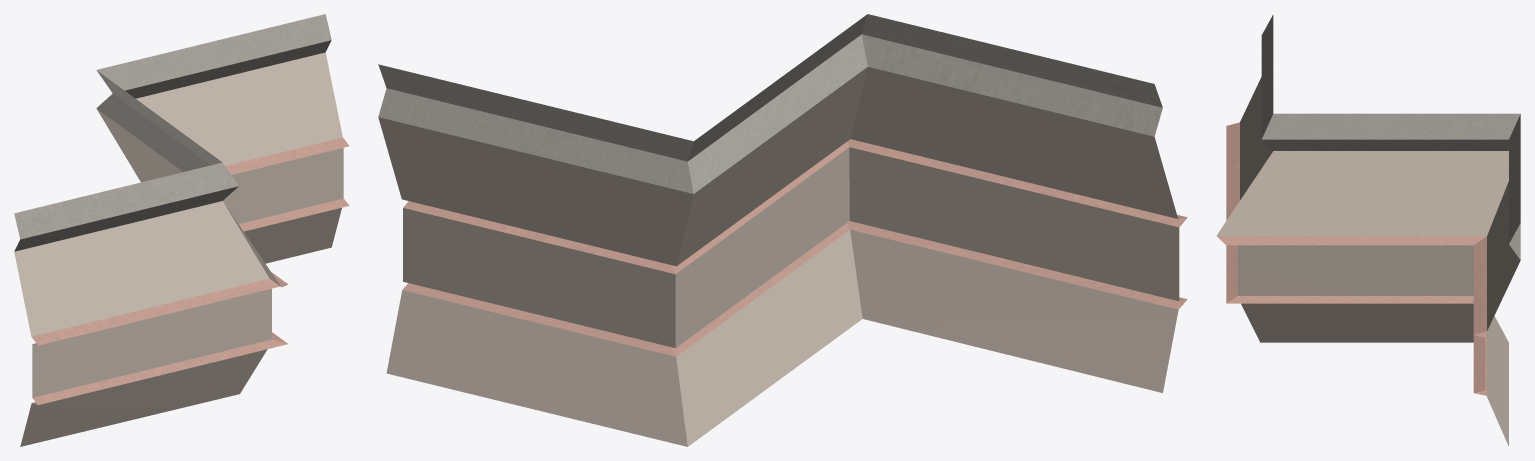
Rendered from Wall_Cuverd_Z.obj.
3 views of the same model, side by side, from view 1: azimuth 30°, elevation 25°; view 2: azimuth 150°, elevation 25°; view 3: azimuth 270°, elevation 25° (orthographic). The views are drawn at different scales.
Parts seen in each view (by area): view 1: Wall_Cuverd_Z; view 2: Wall_Cuverd_Z; view 3: Wall_Cuverd_Z.
Part boxes in pixels (x1=…): Wall_Cuverd_Z: x1=14, y1=14, x2=349, y2=446; Wall_Cuverd_Z: x1=378, y1=14, x2=1187, y2=446; Wall_Cuverd_Z: x1=1216, y1=15, x2=1520, y2=446.
Size of the model in its own units: 20 by 10 by 12.31.
